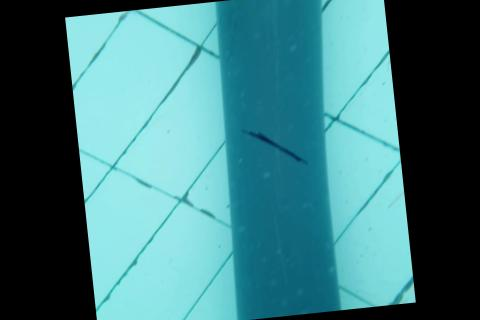keretakan: (244, 123, 305, 169)
